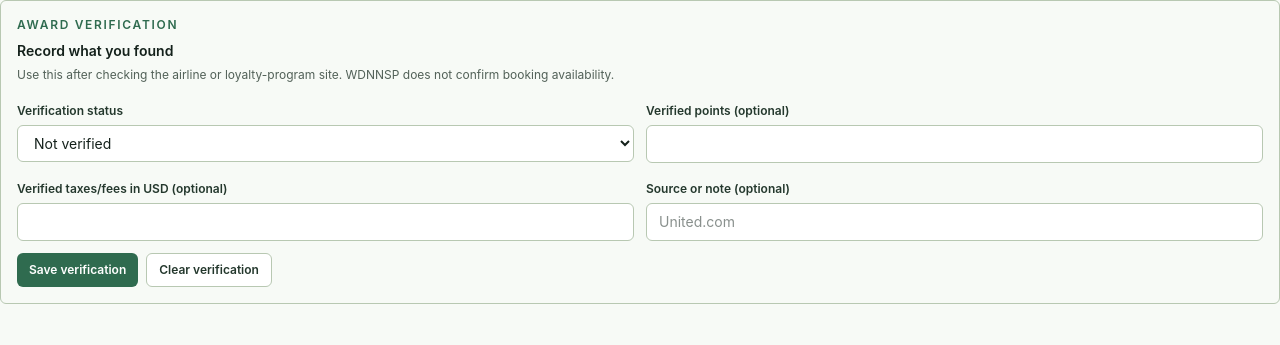
Test case: AwardVerificationControls › rejects invalid points and fees
This screenshot has width=1280, height=345.
Type "0" into the number field labelled "Verified points (optional)" at [954, 144], box x1=646 y1=125 x2=1263 y2=163
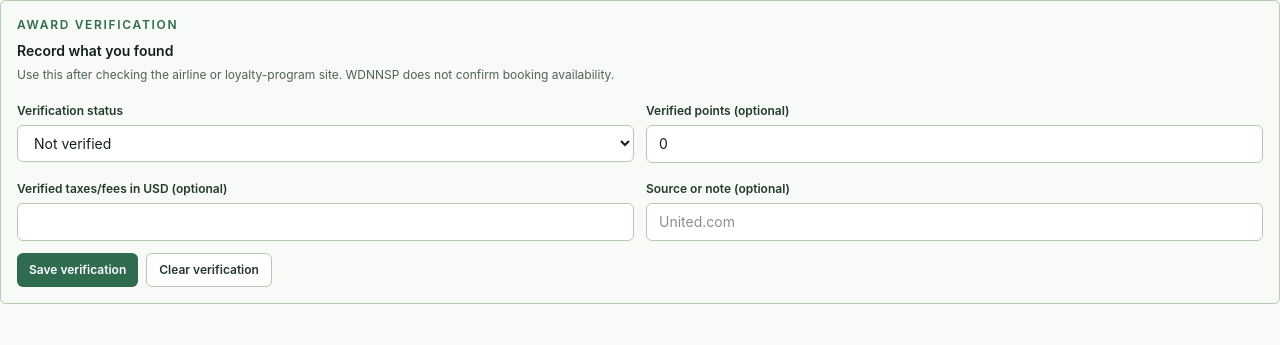
Submit the form named "Save verification", box x1=17 y1=97 x2=1263 y2=287
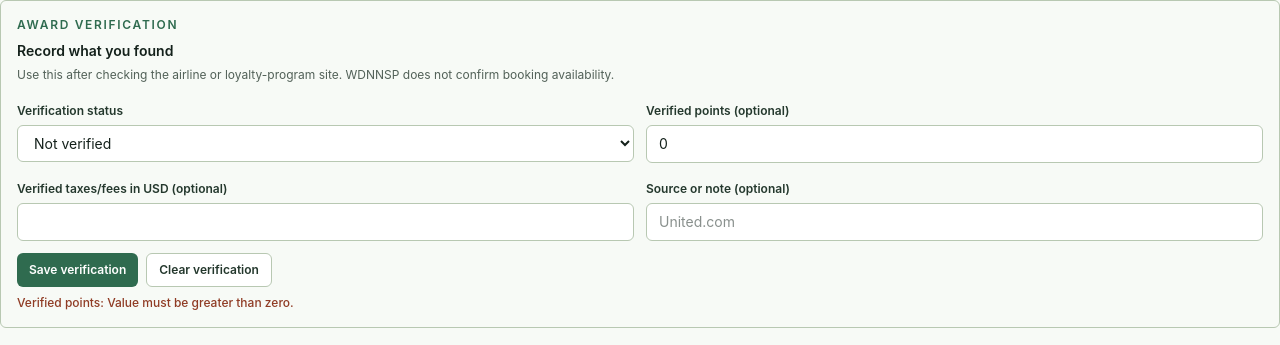
Check: the message shows "greater than zero", box x1=17 y1=295 x2=294 y2=310
